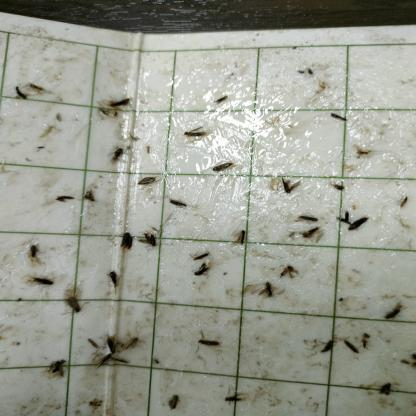prays_oleae: (192, 327, 223, 362), (382, 296, 401, 335), (65, 285, 88, 314), (105, 94, 136, 115), (182, 121, 208, 146), (139, 226, 162, 252), (279, 172, 300, 198), (342, 334, 362, 360), (375, 375, 394, 402), (103, 327, 120, 357), (26, 239, 43, 268), (300, 224, 321, 247), (257, 275, 273, 305), (211, 156, 232, 178), (222, 389, 249, 406), (191, 262, 210, 286), (330, 107, 349, 131), (119, 228, 136, 254), (78, 187, 99, 208), (348, 216, 369, 237), (94, 352, 114, 374), (26, 76, 44, 100), (27, 276, 54, 292), (123, 329, 140, 354), (48, 360, 68, 381), (296, 210, 325, 224), (214, 90, 232, 112), (280, 261, 298, 283), (109, 145, 127, 166), (169, 196, 187, 217), (83, 330, 100, 352), (163, 390, 180, 412), (108, 264, 120, 294), (12, 83, 29, 103), (137, 174, 157, 191), (332, 210, 349, 230), (189, 248, 210, 263), (362, 330, 372, 352), (332, 180, 345, 195), (86, 401, 104, 410)
